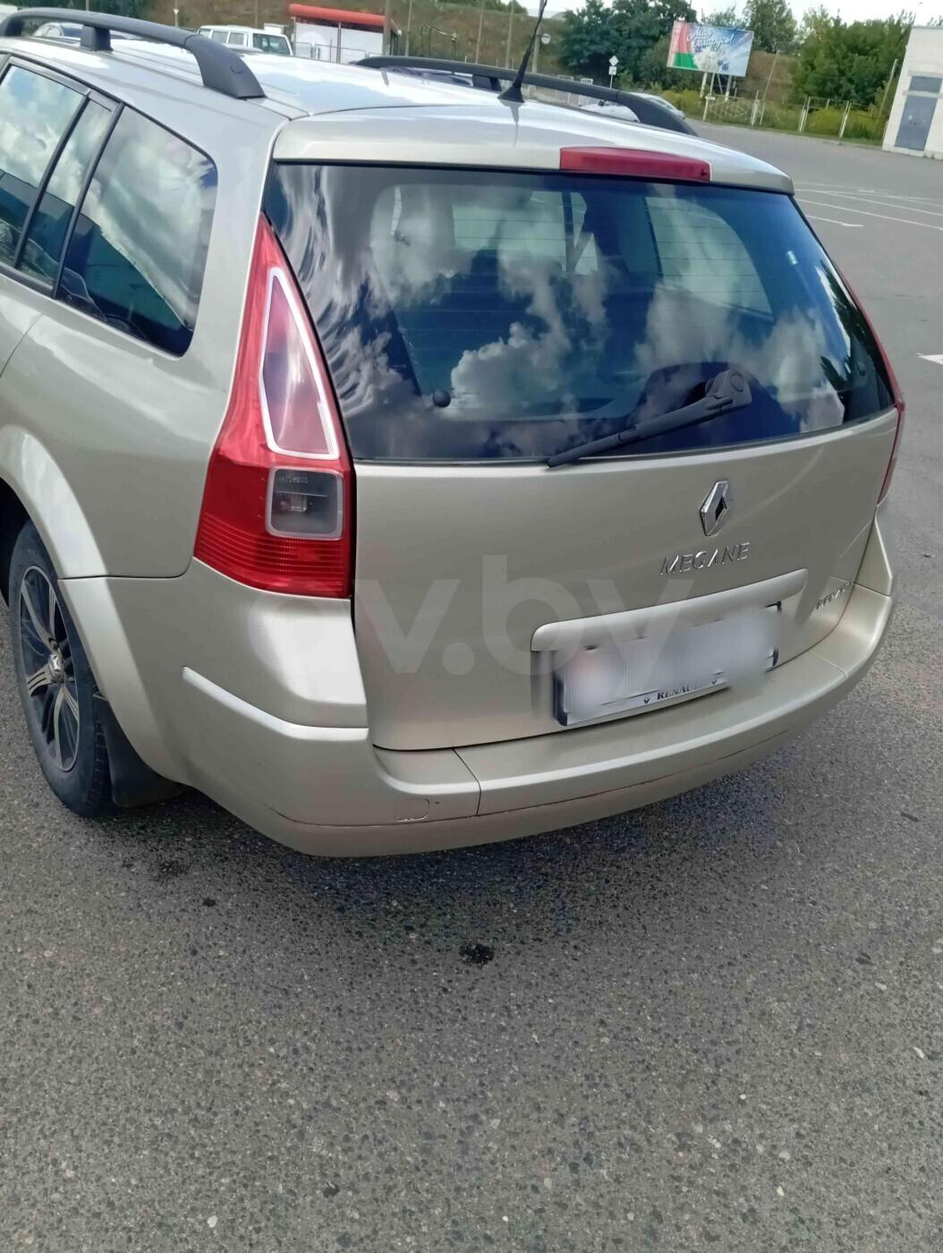Megane_2005-2009: (0, 13, 909, 863)
